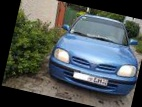car: (43, 7, 142, 101)
